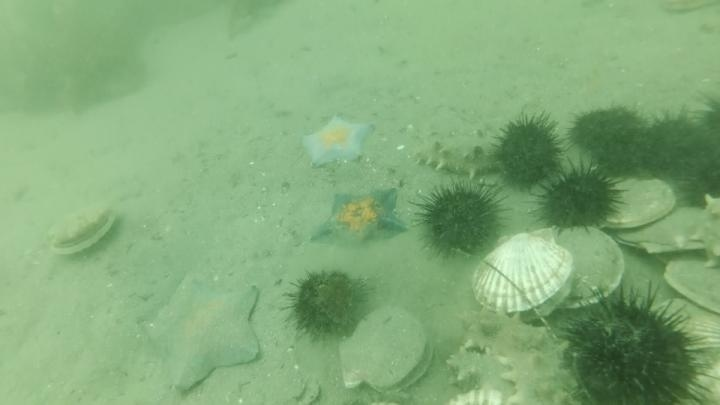echinus: (556, 281, 715, 404), (414, 177, 510, 261), (531, 158, 626, 235), (283, 266, 373, 342), (566, 101, 653, 173), (491, 111, 565, 191), (637, 109, 707, 174), (690, 87, 720, 157), (684, 154, 720, 195)
holothurian: (446, 307, 576, 404), (411, 131, 505, 181), (441, 337, 517, 397), (687, 190, 720, 271)
scallop: (468, 229, 577, 324), (338, 304, 435, 398), (613, 197, 720, 266), (554, 225, 627, 316), (597, 175, 680, 238), (44, 202, 122, 259), (679, 309, 720, 403), (661, 256, 720, 319), (448, 384, 506, 404)
starfish: (143, 275, 266, 396), (308, 185, 410, 251), (299, 112, 376, 170)
